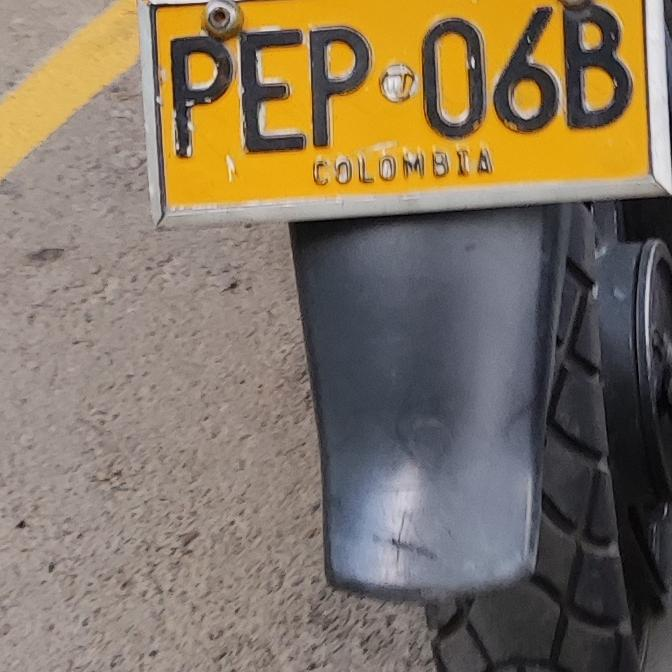plates: (149, 0, 662, 233)
